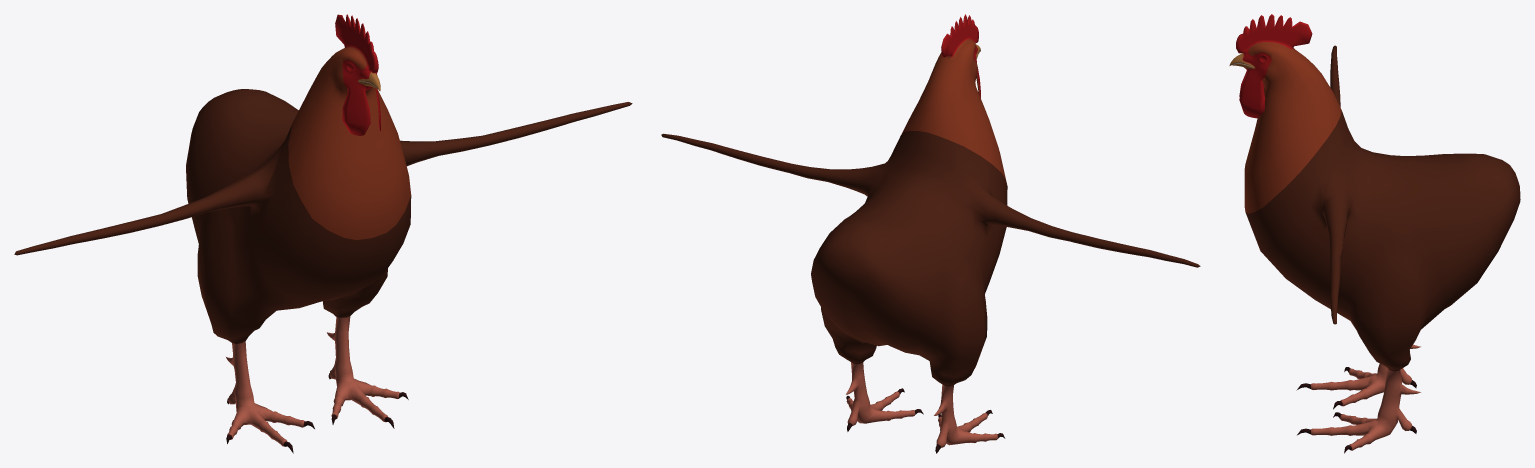
File: rooster_cock.obj
The picture shows the model from 3 angles, left to right: view 1: azimuth 30°, elevation 25°; view 2: azimuth 150°, elevation 25°; view 3: azimuth 270°, elevation 25°; orthographic projection. The views are drawn at different scales.
Parts seen in each view (by area): view 1: cock; view 2: cock; view 3: cock.
Part boxes in pixels (<box>): cock: <box>14,14,632,453</box>; cock: <box>661,14,1200,453</box>; cock: <box>1229,14,1520,453</box>.
Size of the model in its own units: 0.6338 by 0.4252 by 0.2804.
